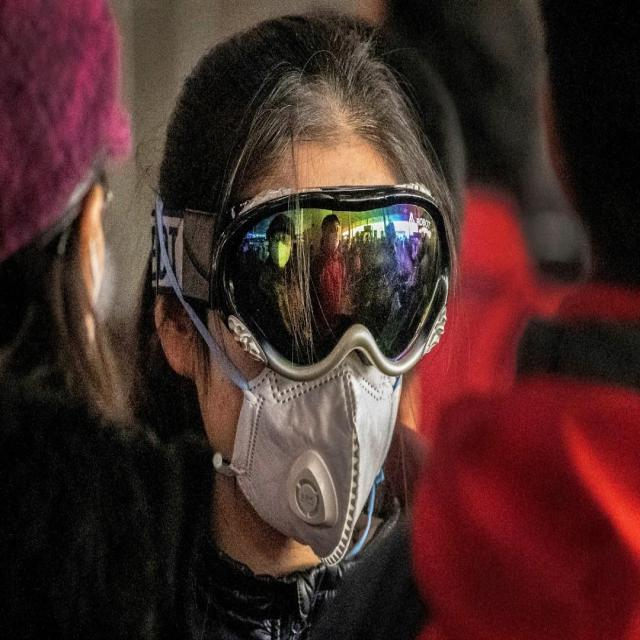Goggles: (212, 177, 456, 379)
Mask: (233, 346, 400, 568)
